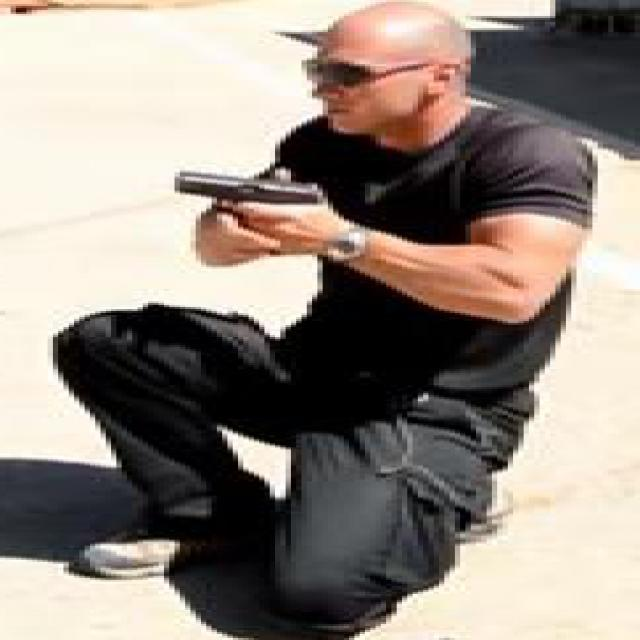Gun: (174, 166, 338, 253)
